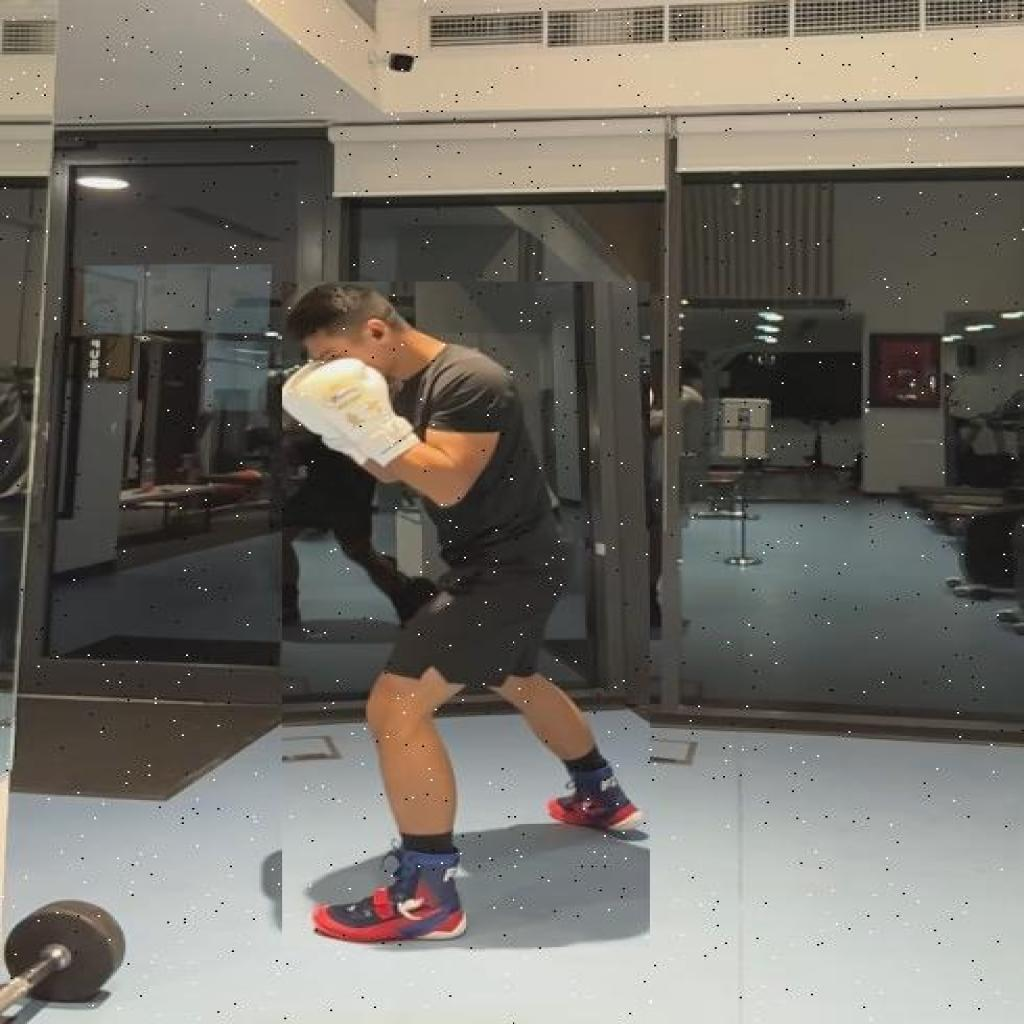no punch: (282, 282, 650, 948)
